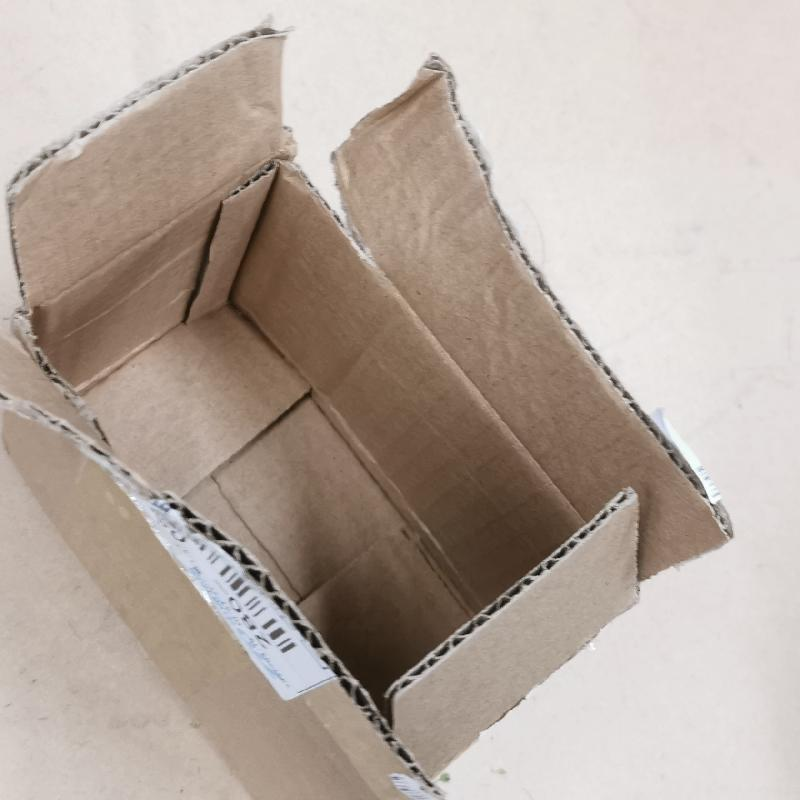boxes: (0, 18, 739, 800)
